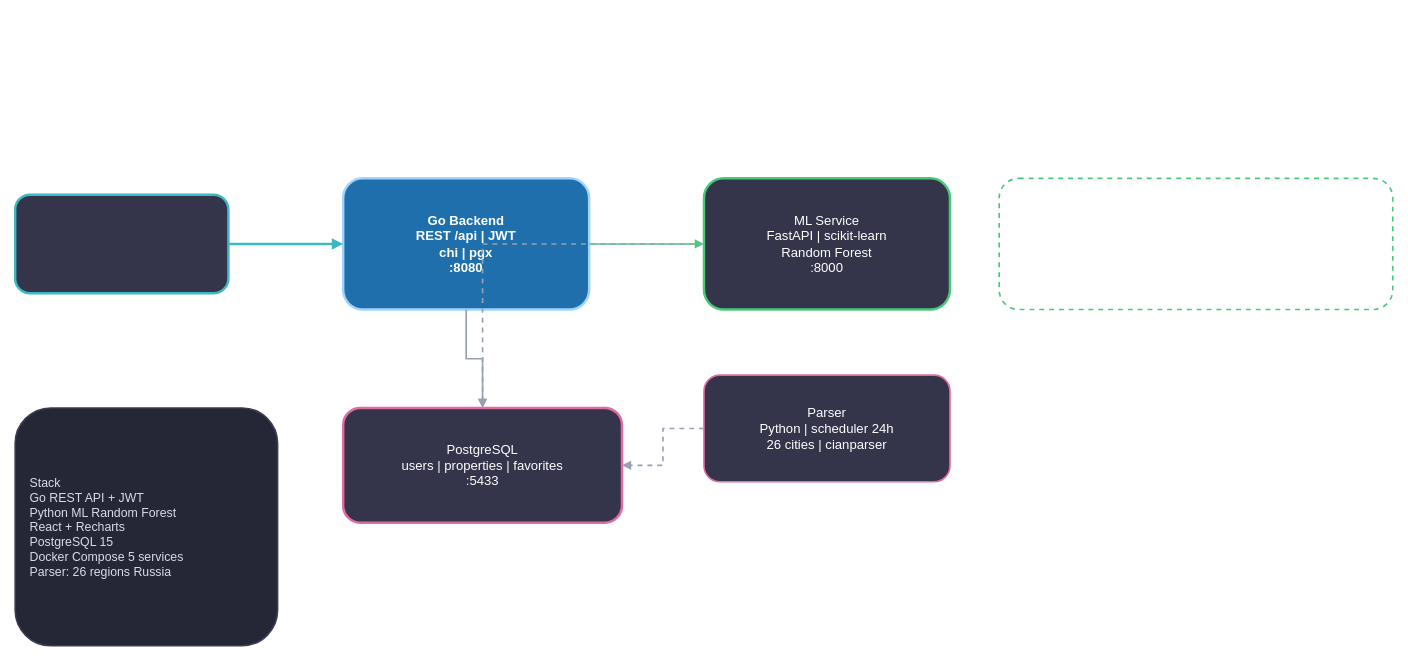
This 1408x660 diagram has some shape labels left out. Here are the shapes that lost their labels. From the top down, the box of each, then its label:
(14, 193, 229, 294): Frontend React 19 | Vite :5173
(998, 177, 1393, 310): POST /api/predict React form -> Go -> ML -> dashboard
